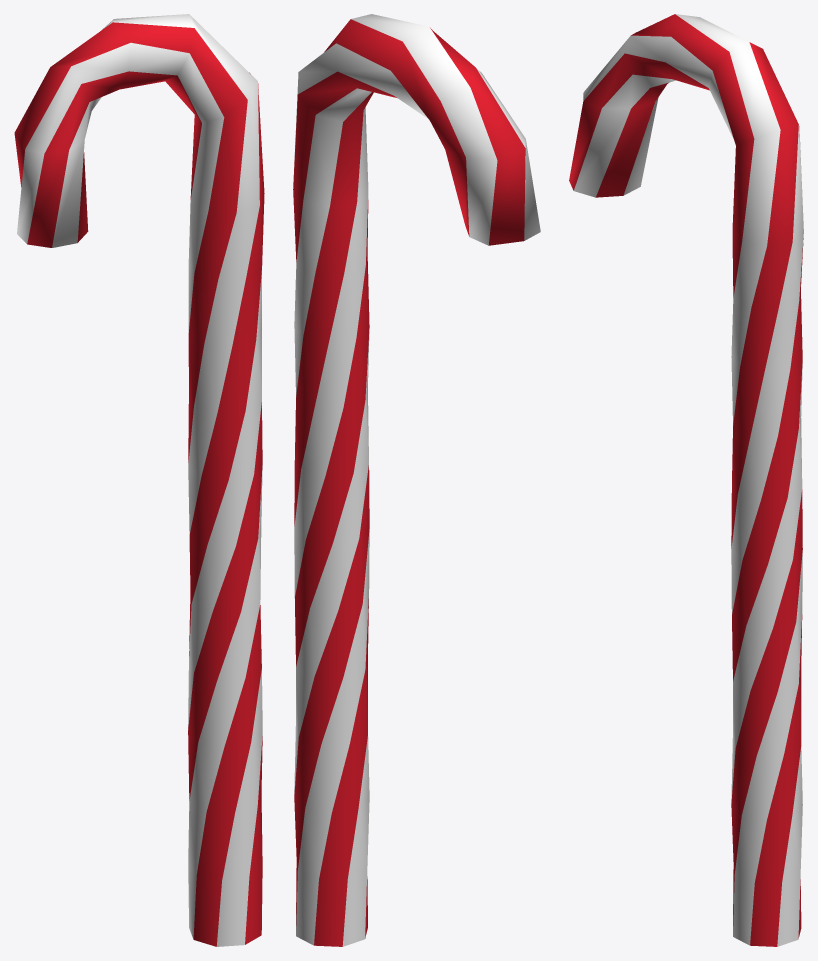
Rendered from CandyCaine.gltf.
3 renders of one model, left to right at view 1: azimuth 30°, elevation 25°; view 2: azimuth 150°, elevation 25°; view 3: azimuth 330°, elevation 25°, orthographic. The views are drawn at different scales.
Visible parts, largest first — view 1: CandyCane; view 2: CandyCane; view 3: CandyCane.
Boxes of the visible parts, x1,y1,x2,y2 form: CandyCane: (14,14,264,946); CandyCane: (293,14,540,946); CandyCane: (569,14,803,946).
Size of what is drawn, in the model's own units: 0.721 by 2.72 by 0.2567.
